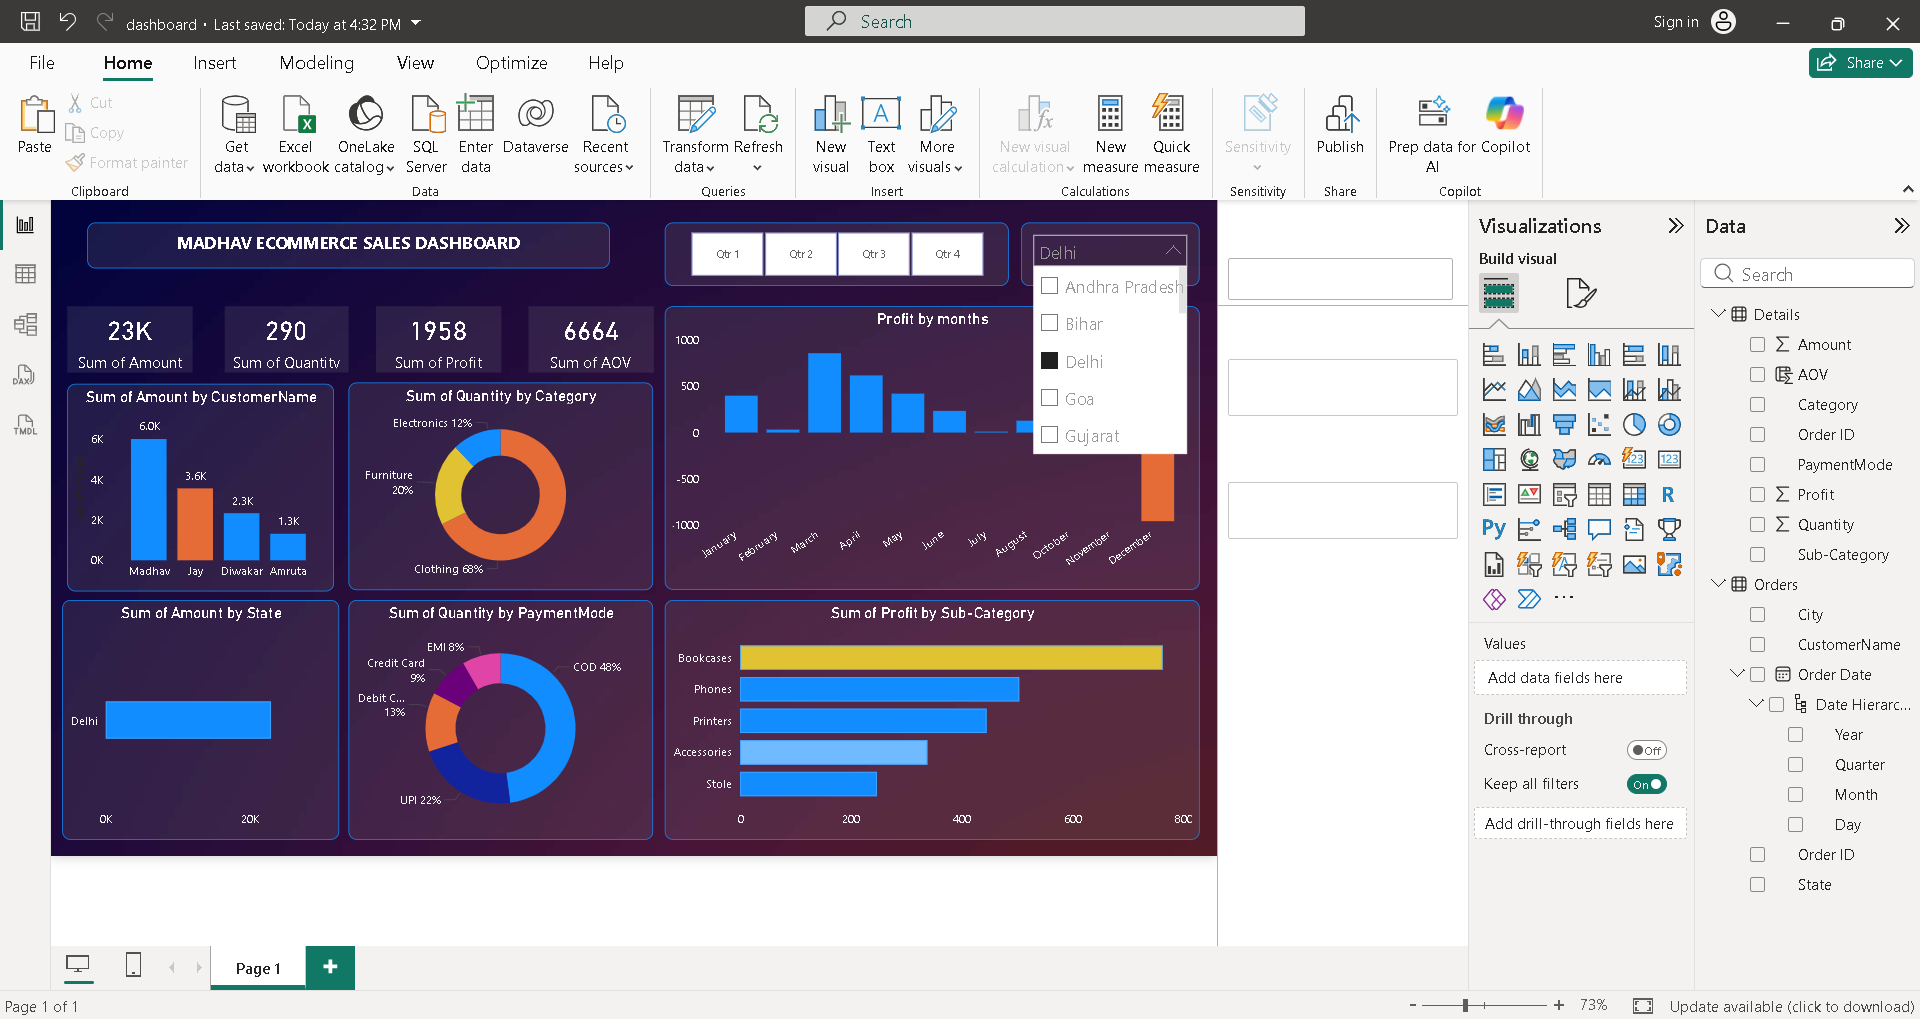

The dashboard page shown, as its layout file describes it:
{"tool":"powerbi","page":{"name":"Page 1","canvas":[1280,720],"ordinal":0},"visuals":[{"type":"textbox","box":[39.8,24.7,573.6,50.8],"z":0},{"type":"columnChart","title":"Profit by months","fields":{"Category":["Orders.Order Date.Variation.Date Hierarchy.Month"],"Y":["Sum(Details.Profit)"]},"box":[673.8,116.6,587.3,311.5],"z":1000},{"type":"barChart","fields":{"Category":["Details.Sub-Category"],"Y":["Sum(Details.Profit)"]},"box":[673.8,439.1,587.3,263.5],"z":2000},{"type":"donutChart","fields":{"Category":["Details.Category"],"Y":["Sum(Details.Quantity)"]},"box":[326.9,200.3,334.2,228],"z":3000},{"type":"donutChart","fields":{"Category":["Details.PaymentMode"],"Y":["Sum(Details.Quantity)"]},"box":[326.9,439.1,334.2,263],"z":4000},{"type":"card","fields":{"Values":["Sum(Details.Amount)"]},"box":[17.8,116.6,137.2,72.7],"z":5000},{"type":"card","fields":{"Values":["Sum(Details.Quantity)"]},"box":[190.7,116.6,135.8,72.7],"z":6000},{"type":"card","fields":{"Values":["Sum(Details.Profit)"]},"box":[356.8,116.6,137.2,72.7],"z":7000},{"type":"card","fields":{"Values":["Sum(Details.AOV)"]},"box":[524.2,116.6,137.2,72.7],"z":8000},{"type":"barChart","fields":{"Category":["Orders.State"],"Y":["Sum(Details.Amount)"]},"box":[12.1,439.1,304,263],"z":9000},{"type":"columnChart","fields":{"Category":["Orders.CustomerName"],"Y":["Sum(Details.Amount)"]},"box":[18.1,201.5,293.2,228],"z":10000},{"type":"slicer","fields":{"Values":["Orders.Order Date.Variation.Date Hierarchy.Quarter"]},"box":[673.8,24.7,377.4,70],"z":11000},{"type":"slicer","fields":{"Values":["Orders.State"]},"box":[1064.8,24.7,196.2,70],"z":11001}]}

Visuals, with their boxes on the page's 1280x720 design canvas (x1, y1, x2, y2). These are canvas units, not pixel positions in the 1920x1019 screenshot, which may show the page scaled, cropped or inside an application window:
textbox: <bbox>40, 25, 613, 76</bbox>
"Profit by months" columnChart: <bbox>674, 117, 1261, 428</bbox>
barChart - Details.Sub-Category x Sum(Details.Profit): <bbox>674, 439, 1261, 703</bbox>
donutChart - Details.Category x Sum(Details.Quantity): <bbox>327, 200, 661, 428</bbox>
donutChart - Details.PaymentMode x Sum(Details.Quantity): <bbox>327, 439, 661, 702</bbox>
card - Sum(Details.Amount): <bbox>18, 117, 155, 189</bbox>
card - Sum(Details.Quantity): <bbox>191, 117, 326, 189</bbox>
card - Sum(Details.Profit): <bbox>357, 117, 494, 189</bbox>
card - Sum(Details.AOV): <bbox>524, 117, 661, 189</bbox>
barChart - Orders.State x Sum(Details.Amount): <bbox>12, 439, 316, 702</bbox>
columnChart - Orders.CustomerName x Sum(Details.Amount): <bbox>18, 202, 311, 430</bbox>
slicer - Orders.Order Date.Variation.Date Hierarchy.Quarter: <bbox>674, 25, 1051, 95</bbox>
slicer - Orders.State: <bbox>1065, 25, 1261, 95</bbox>
